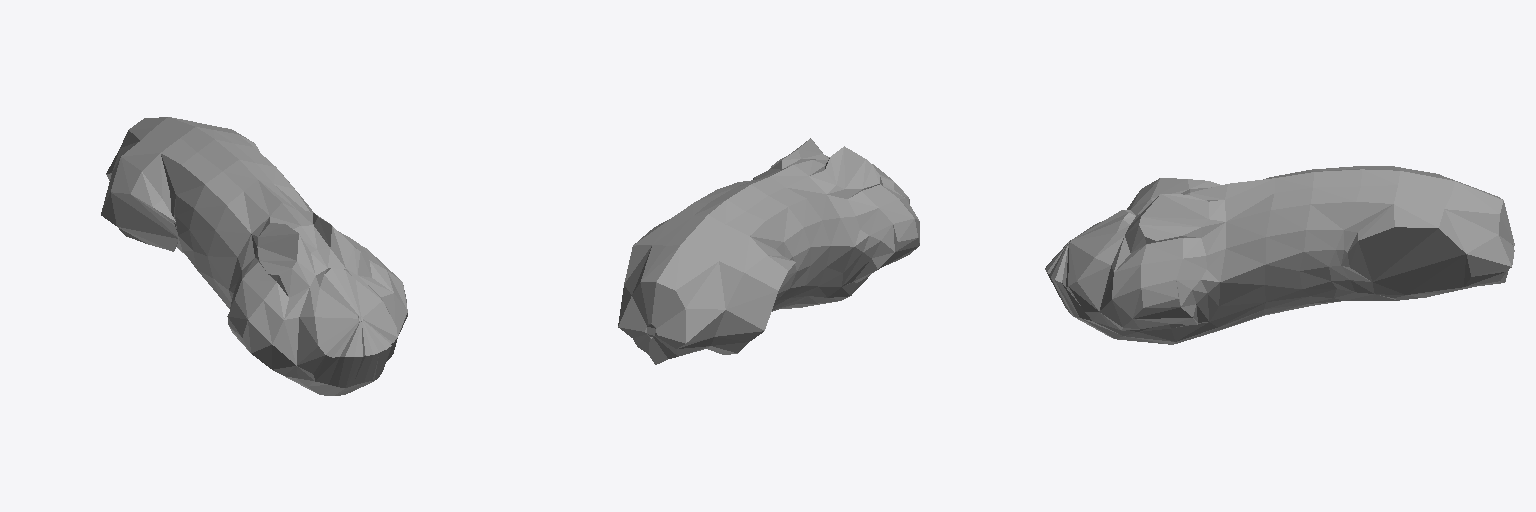
File: body.obj
3 renders of one model, left to right at view 1: azimuth 30°, elevation 25°; view 2: azimuth 150°, elevation 25°; view 3: azimuth 270°, elevation 25°, orthographic.
Parts seen in each view (by area): view 1: Body_Cube.012; view 2: Body_Cube.012; view 3: Body_Cube.012.
Boxes of the visible parts, <box> form: Body_Cube.012: <box>101,117,407,395</box>; Body_Cube.012: <box>618,138,919,364</box>; Body_Cube.012: <box>1045,166,1514,344</box>.
Size of the model in its own units: 2.02 by 2.04 by 5.02.